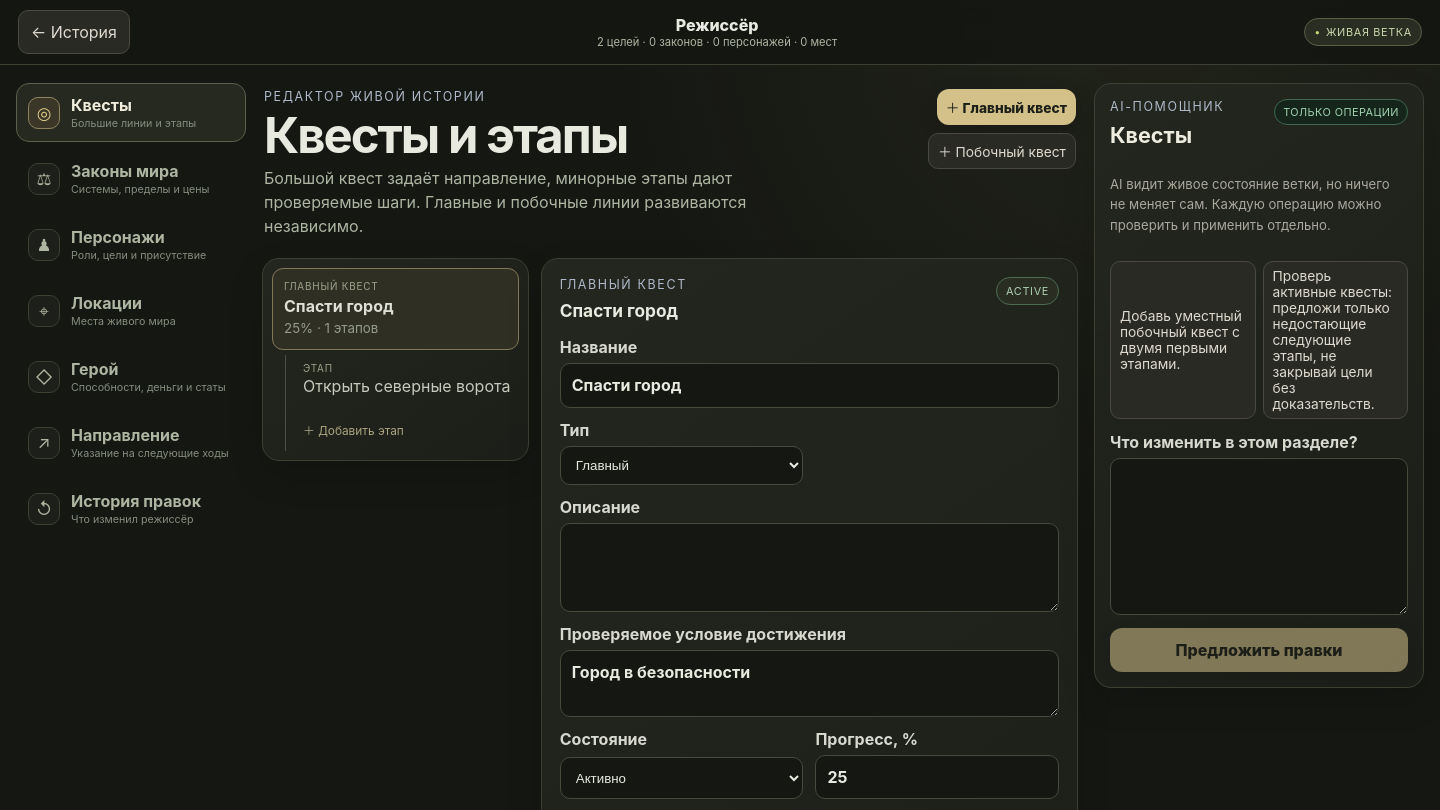
Test: director survives legacy null collections and renders objectives
Expected: the heading "Квесты и этапы" is shown, [264,106,627,165]
Expected: the text "Спасти город" is shown, [284,296,394,316]
Click the button "♟ Персонажи Роли, цели и присутствие" at [131, 244], box [16,215,246,274]
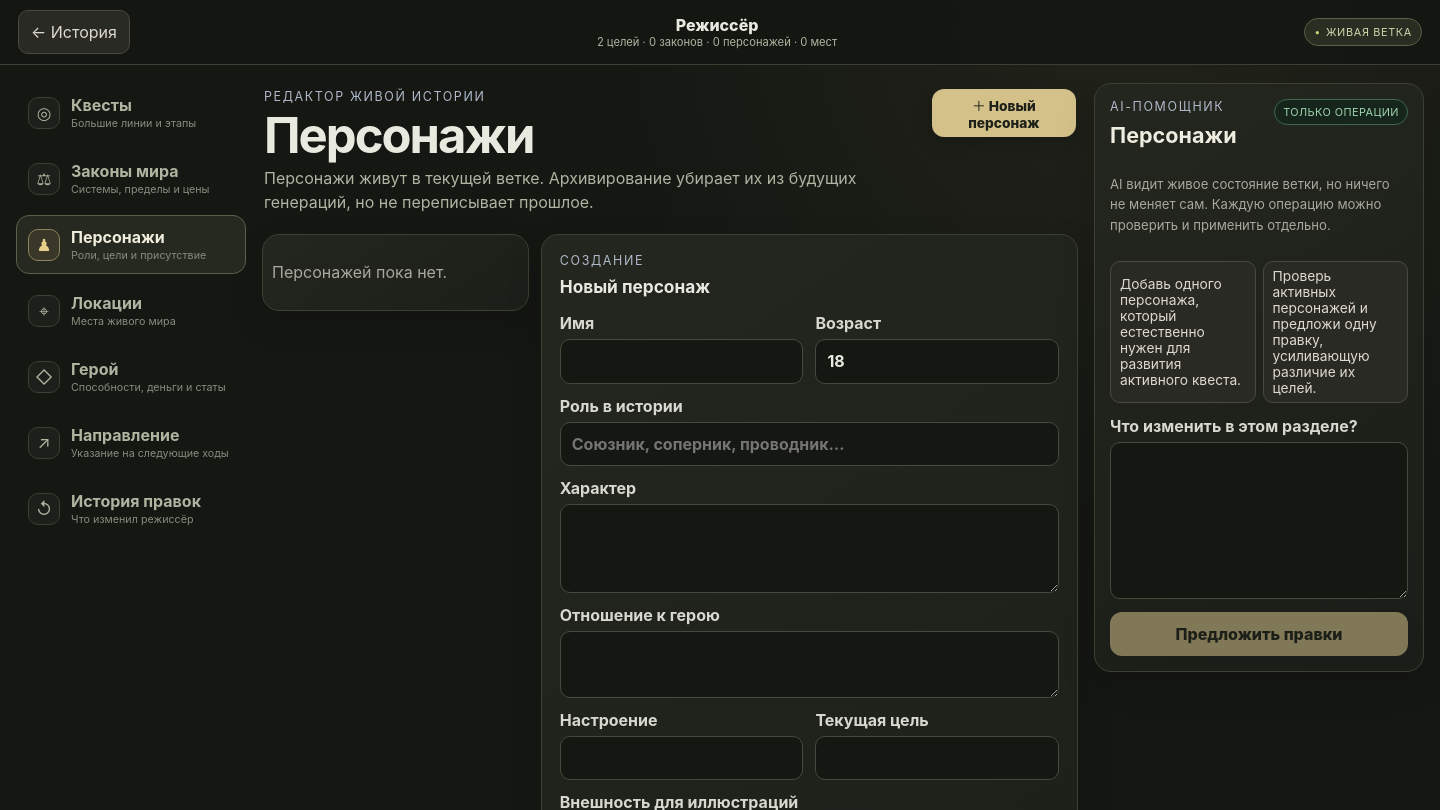
Expected: the heading "Персонажи" below "Редактор живой истории" is shown, [264,106,533,165]
